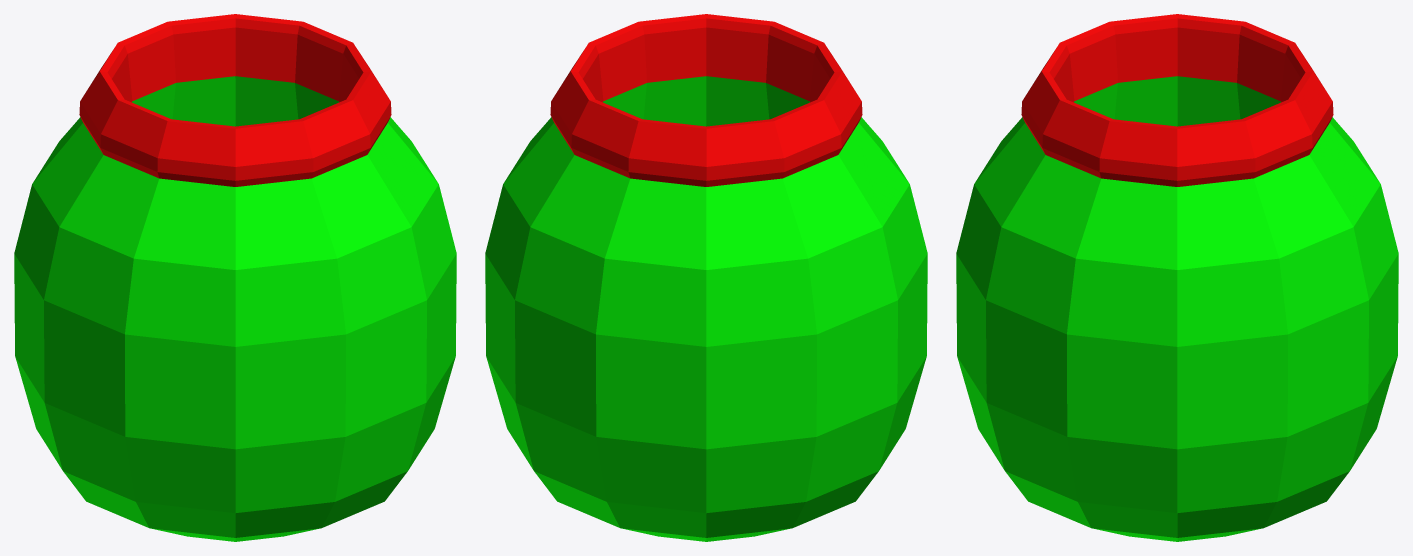
The model's file is POT_3.fbx.
3 views of the same model, side by side, from view 1: azimuth 30°, elevation 25°; view 2: azimuth 150°, elevation 25°; view 3: azimuth 270°, elevation 25° (orthographic).
Parts seen in each view (by area): view 1: POTERIE_3; view 2: POTERIE_3; view 3: POTERIE_3.
Boxes of the visible parts, x1=… form: POTERIE_3: x1=14, y1=14, x2=456, y2=541; POTERIE_3: x1=485, y1=14, x2=927, y2=541; POTERIE_3: x1=956, y1=14, x2=1398, y2=541.
Size of the model in its own units: 38.12 by 40.86 by 38.12.
